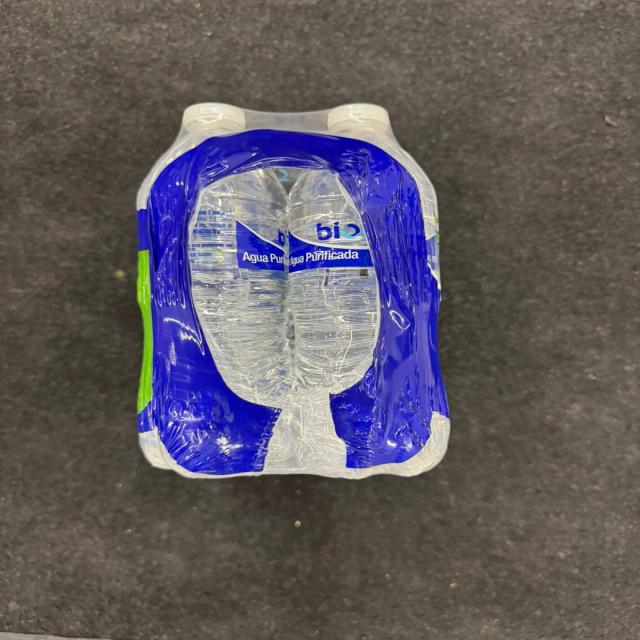AGUA PURIFICADA BIOLEVE 0: (127, 84, 504, 499)
